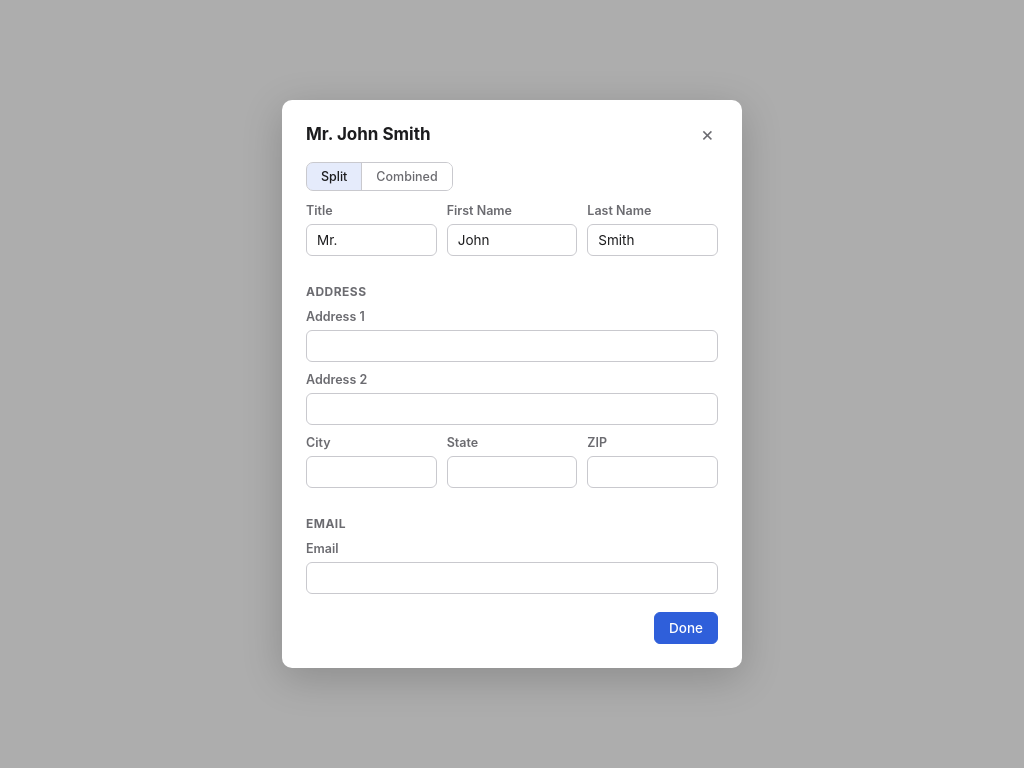
Test: ContactView › switching to Combined mode shows a single editable Full Name field
Click the tab "Combined" at (407, 176), box [361,163,452,190]
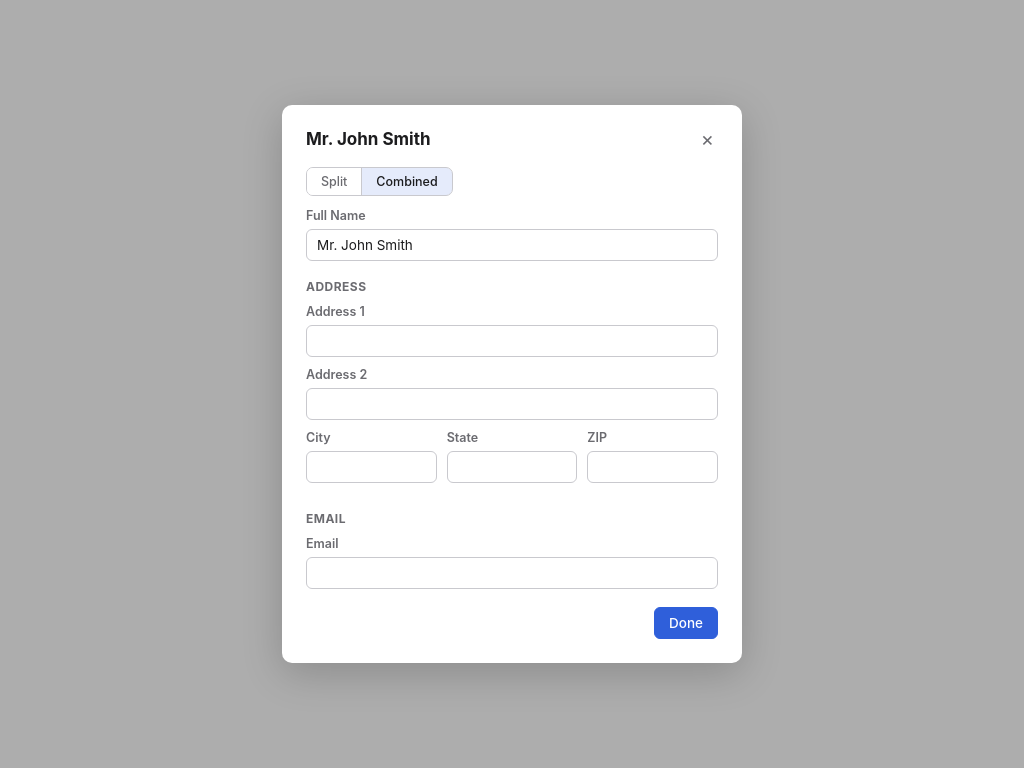
Expected: the field showing "Mr. John Smith" is shown, [306,229,718,261]
